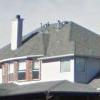Chimney: (5, 11, 31, 50)
